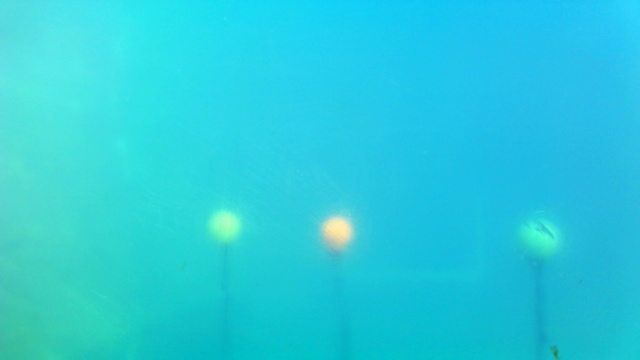buoy_red: (319, 214, 352, 257)
